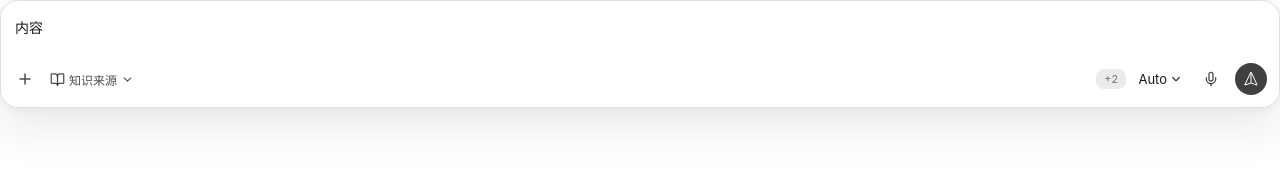
it: composer draft lifecycle › changing only attachments during submission keeps the revised draft
The width and height of the screenshot is (1280, 180).
Click the button named "发送" at coordinates (1251, 79), box [1235,63,1267,95]
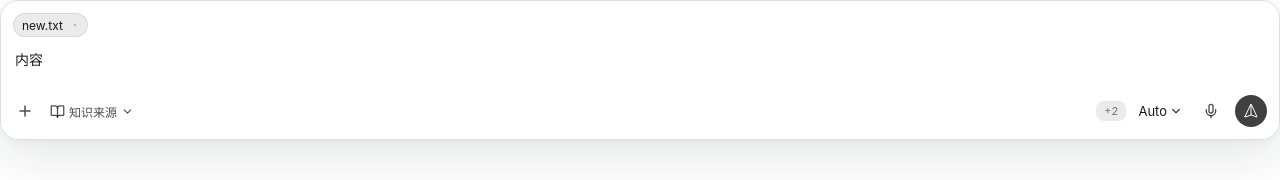
Check: the text box holds "内容", box [13,45,1267,95]
Check: the text "new.txt" is shown, box [22,18,63,32]
